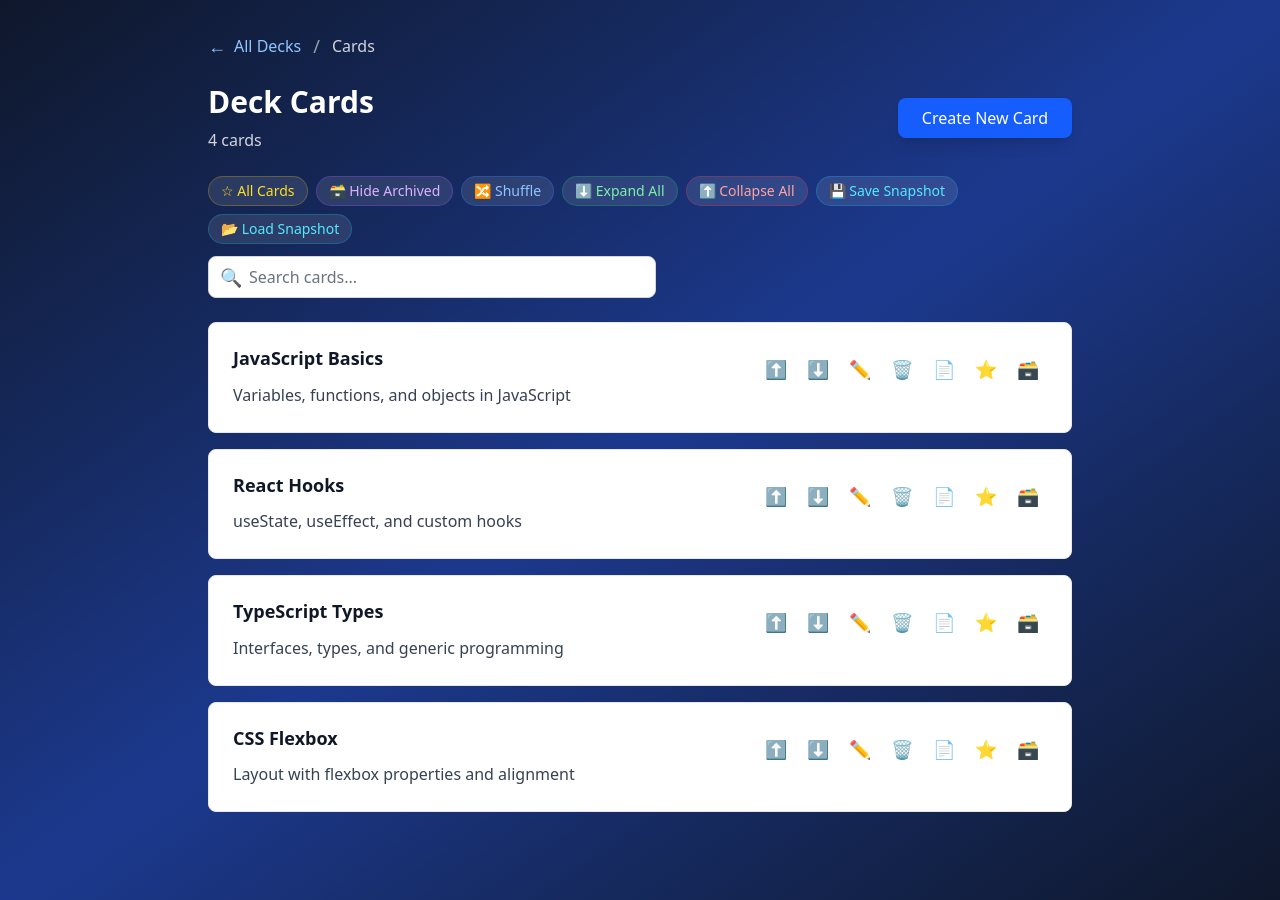
it: CardScreen Component › Advanced Card Filtering › should filter cards by title in real-time
Expected: the heading "JavaScript Basics" is shown, [233,346,383,370]
Expected: the heading "React Hooks" is shown, [233,472,344,496]
Type "React" into the field with placeholder "Search cards...".
click(432, 277); type("React")  # box [208,256,656,298]
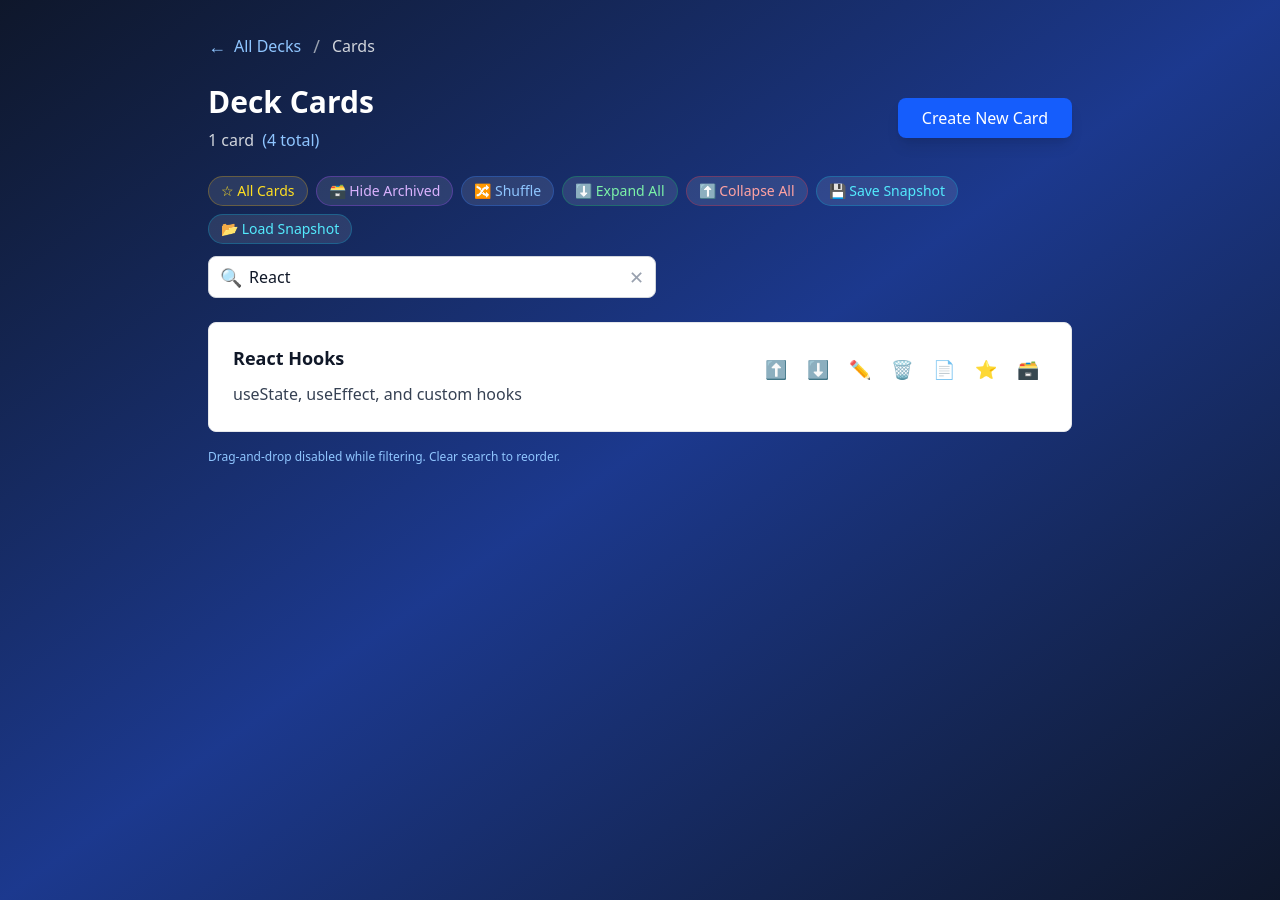
Result: the button "JavaScript Basics" is gone
Result: the button "TypeScript Types" is gone
Result: the button "CSS Flexbox" is gone
